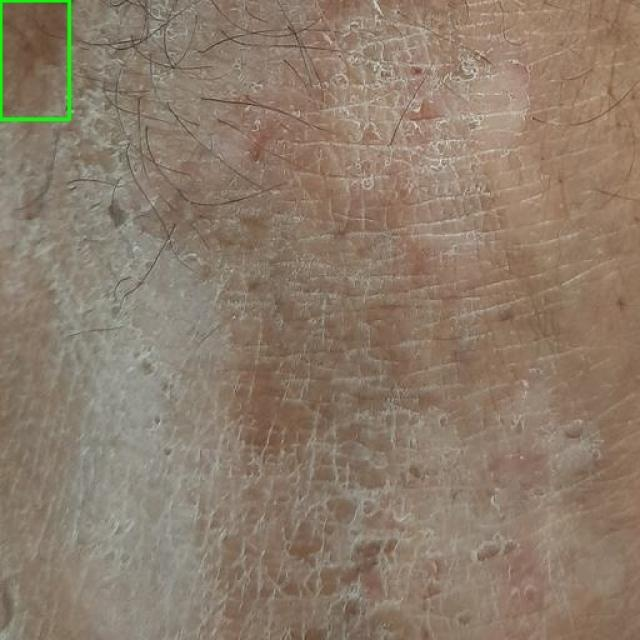Tinea Corporis: (0, 0, 69, 119)
